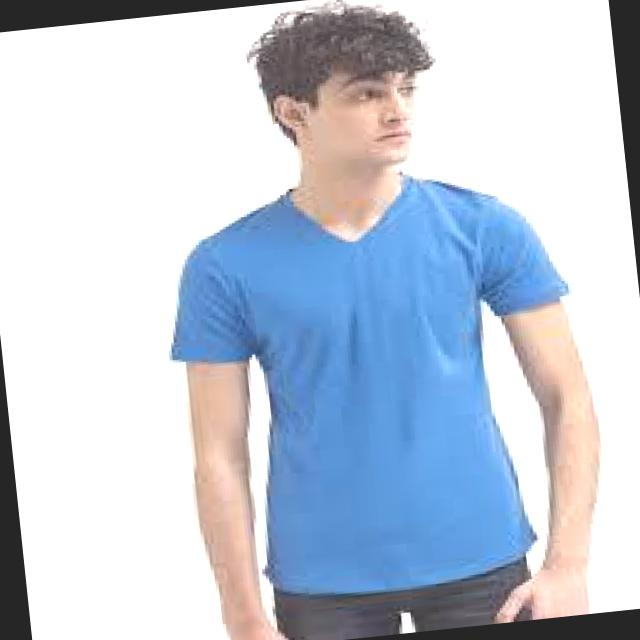Tshirt: (141, 145, 601, 618)
